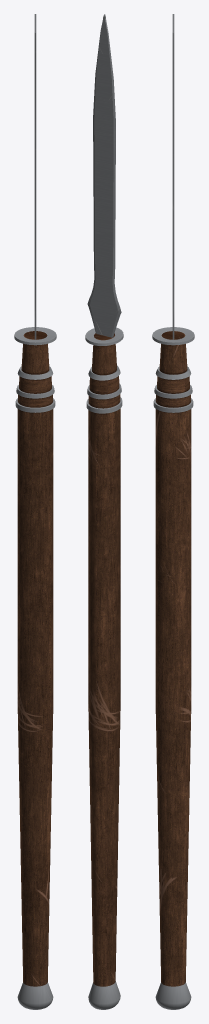
The model's file is Spear_01.fbx.
3 views of the same model, side by side, from view 1: azimuth 90°, elevation 25°; view 2: azimuth 150°, elevation 25°; view 3: azimuth 270°, elevation 25° (orthographic).
Parts seen in each view (by area): view 1: Spear_01; view 2: Spear_01; view 3: Spear_01.
Boxes of the visible parts, x1=… form: Spear_01: x1=14, y1=14, x2=56, y2=1009; Spear_01: x1=85, y1=14, x2=123, y2=1009; Spear_01: x1=152, y1=14, x2=194, y2=1009.
Size of the model in its own units: 3 by 83.43 by 3.25.
Materials: 4 (4 with a texture image).
